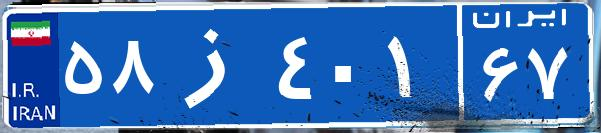0: (330, 28, 385, 110)
1: (385, 28, 445, 110)
4: (273, 28, 330, 110)
5: (57, 26, 110, 107)
6: (475, 38, 525, 113)
7: (525, 38, 570, 115)
8: (110, 28, 158, 105)
ز: (158, 15, 273, 115)
